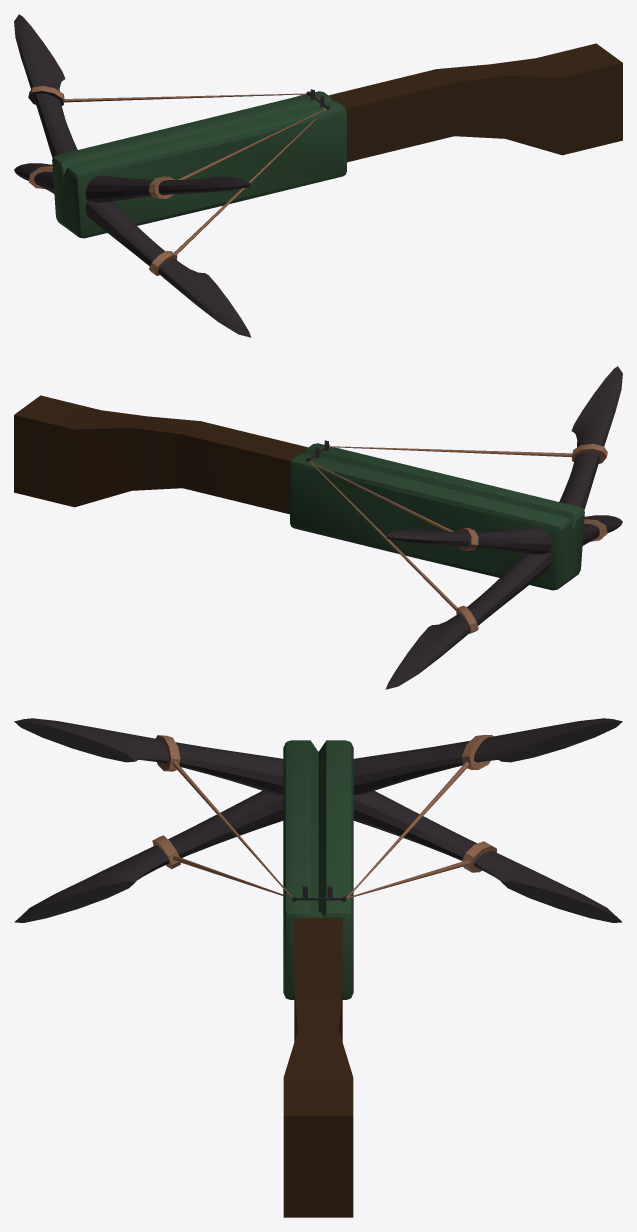
File: crossbow_with_color.fbx
The picture shows the model from 3 angles, top to bottom: view 1: azimuth 30°, elevation 25°; view 2: azimuth 150°, elevation 25°; view 3: azimuth 270°, elevation 25°; orthographic projection. The views are drawn at different scales.
Parts seen in each view (by area): view 1: Cube; view 2: Cube; view 3: Cube.
Boxes of the visible parts, x1,y1,x2,y2 form: Cube: (14,14,622,337); Cube: (14,366,622,689); Cube: (14,718,622,1217).
Bounding box in the file's own units: 1021 × 276 × 752.
